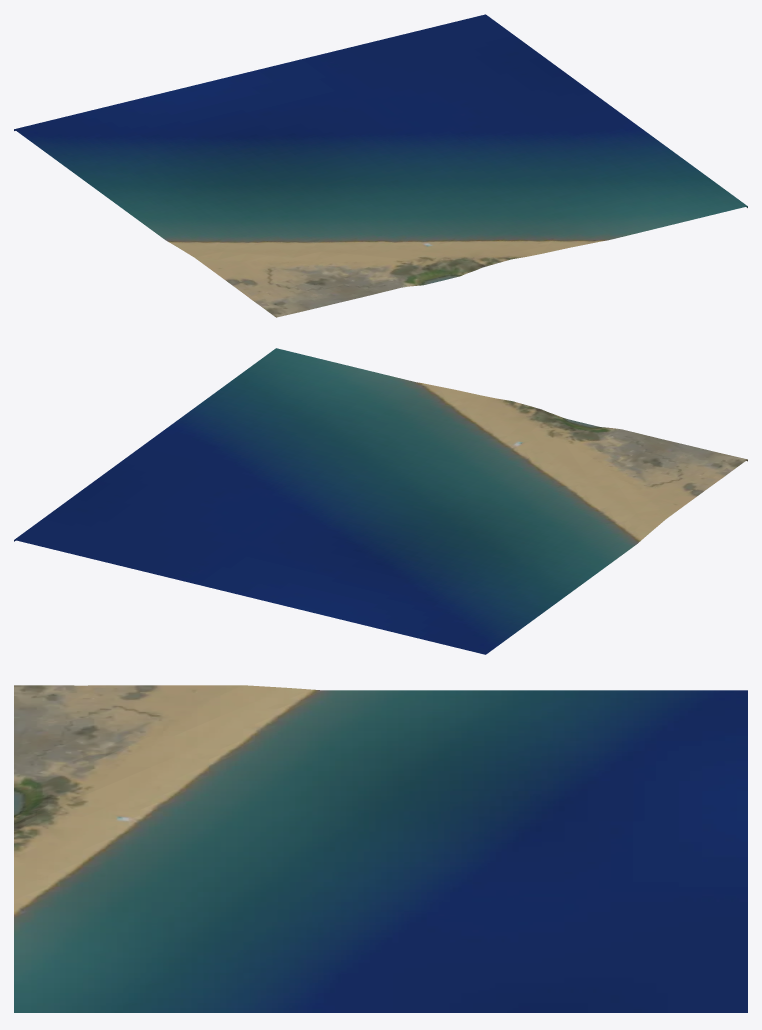
The picture shows the model from 3 angles, top to bottom: view 1: azimuth 30°, elevation 25°; view 2: azimuth 150°, elevation 25°; view 3: azimuth 270°, elevation 25°; orthographic projection. The views are drawn at different scales.
Size of the model in its own units: 250 by 3.49 by 241.
1 material, 1 textured.
